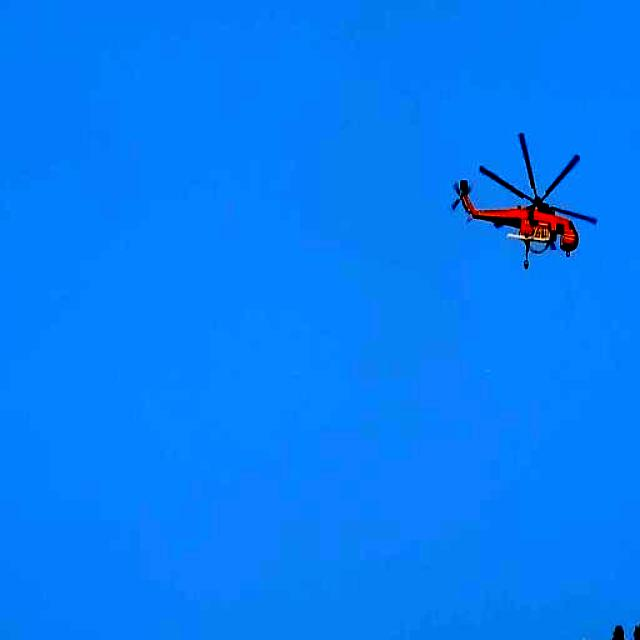drone: (450, 129, 599, 270)
